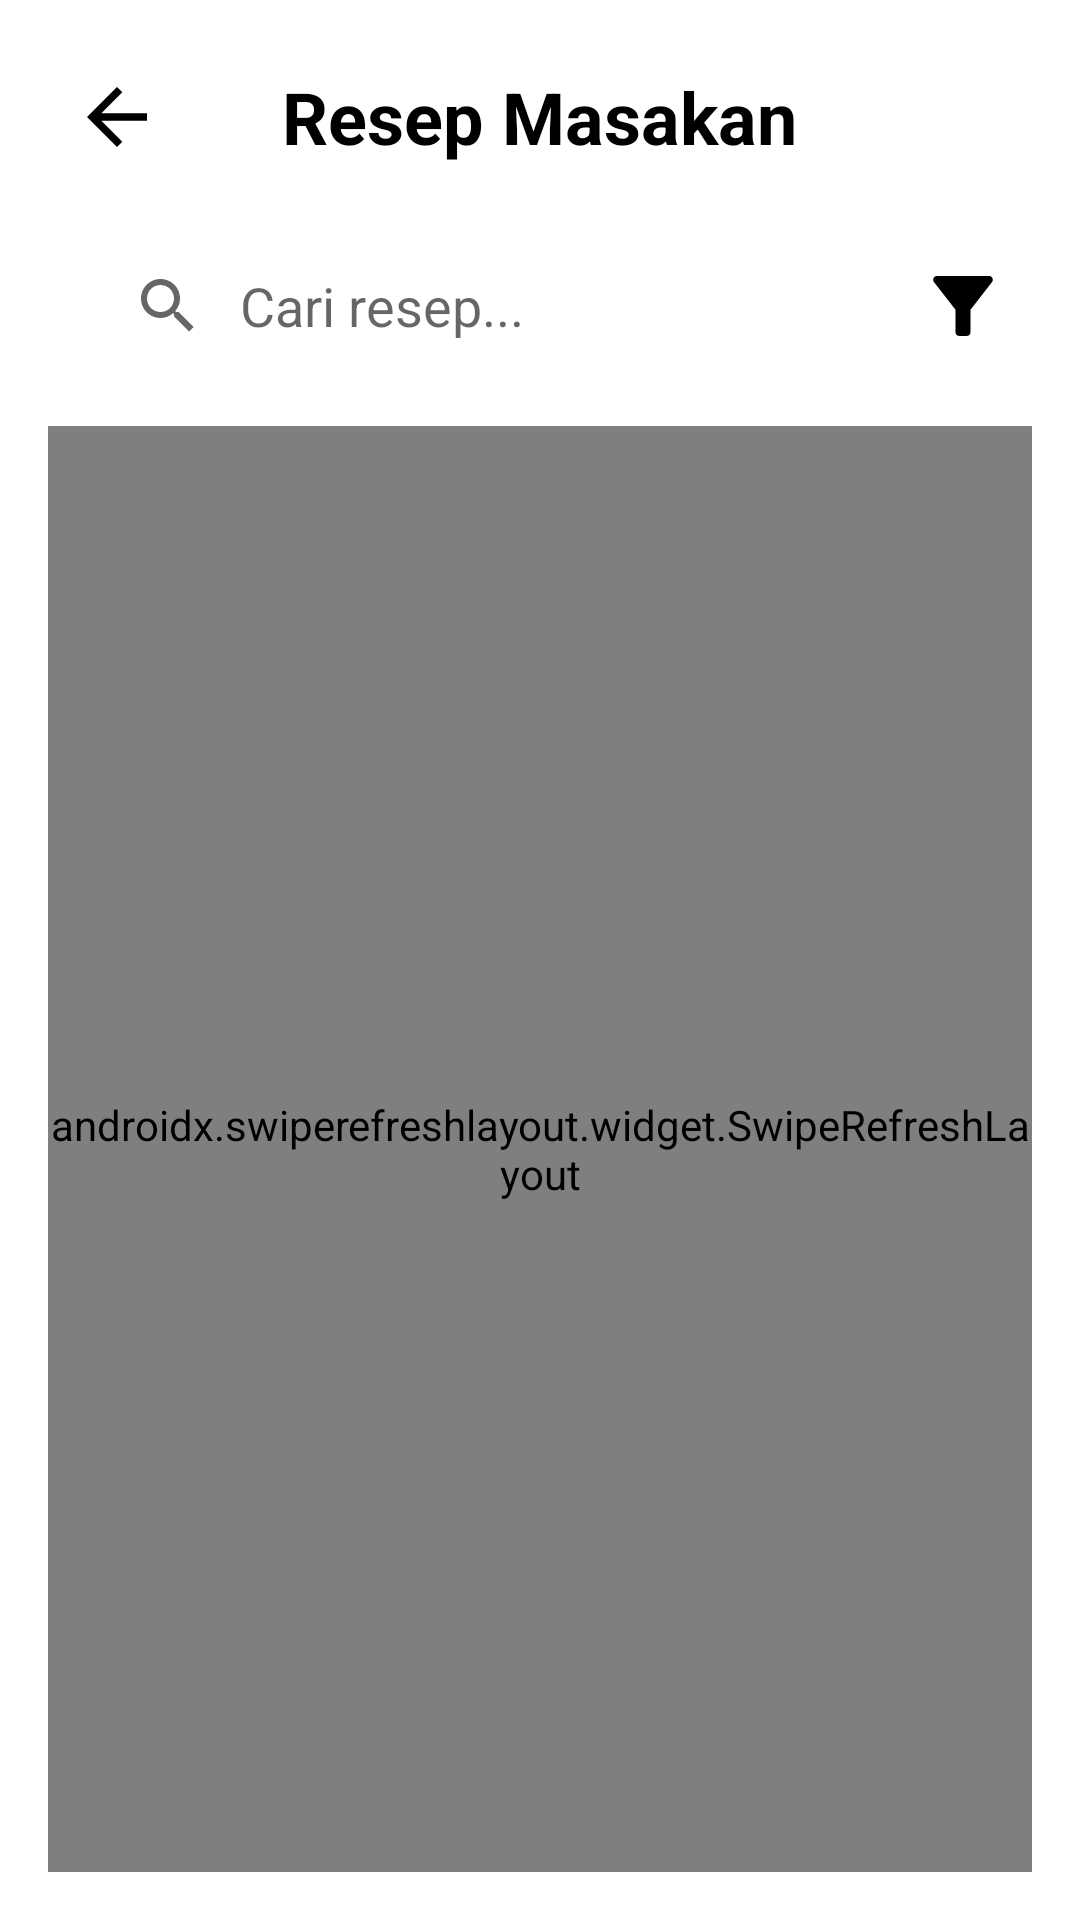

Icon bounding boxes for this 1080 x 1920 phone screenshot, format (x1, y1, x2, y2):
Back: (87, 87, 147, 147)
Filter Allergens: (933, 276, 993, 336)
